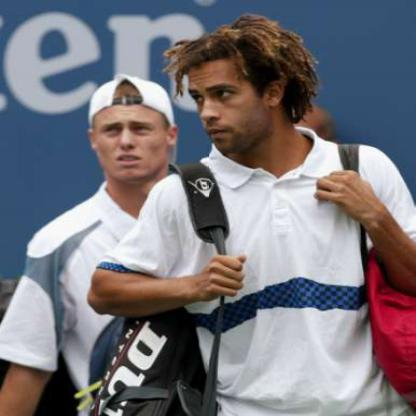face: (185, 39, 271, 159), (92, 80, 172, 184)
